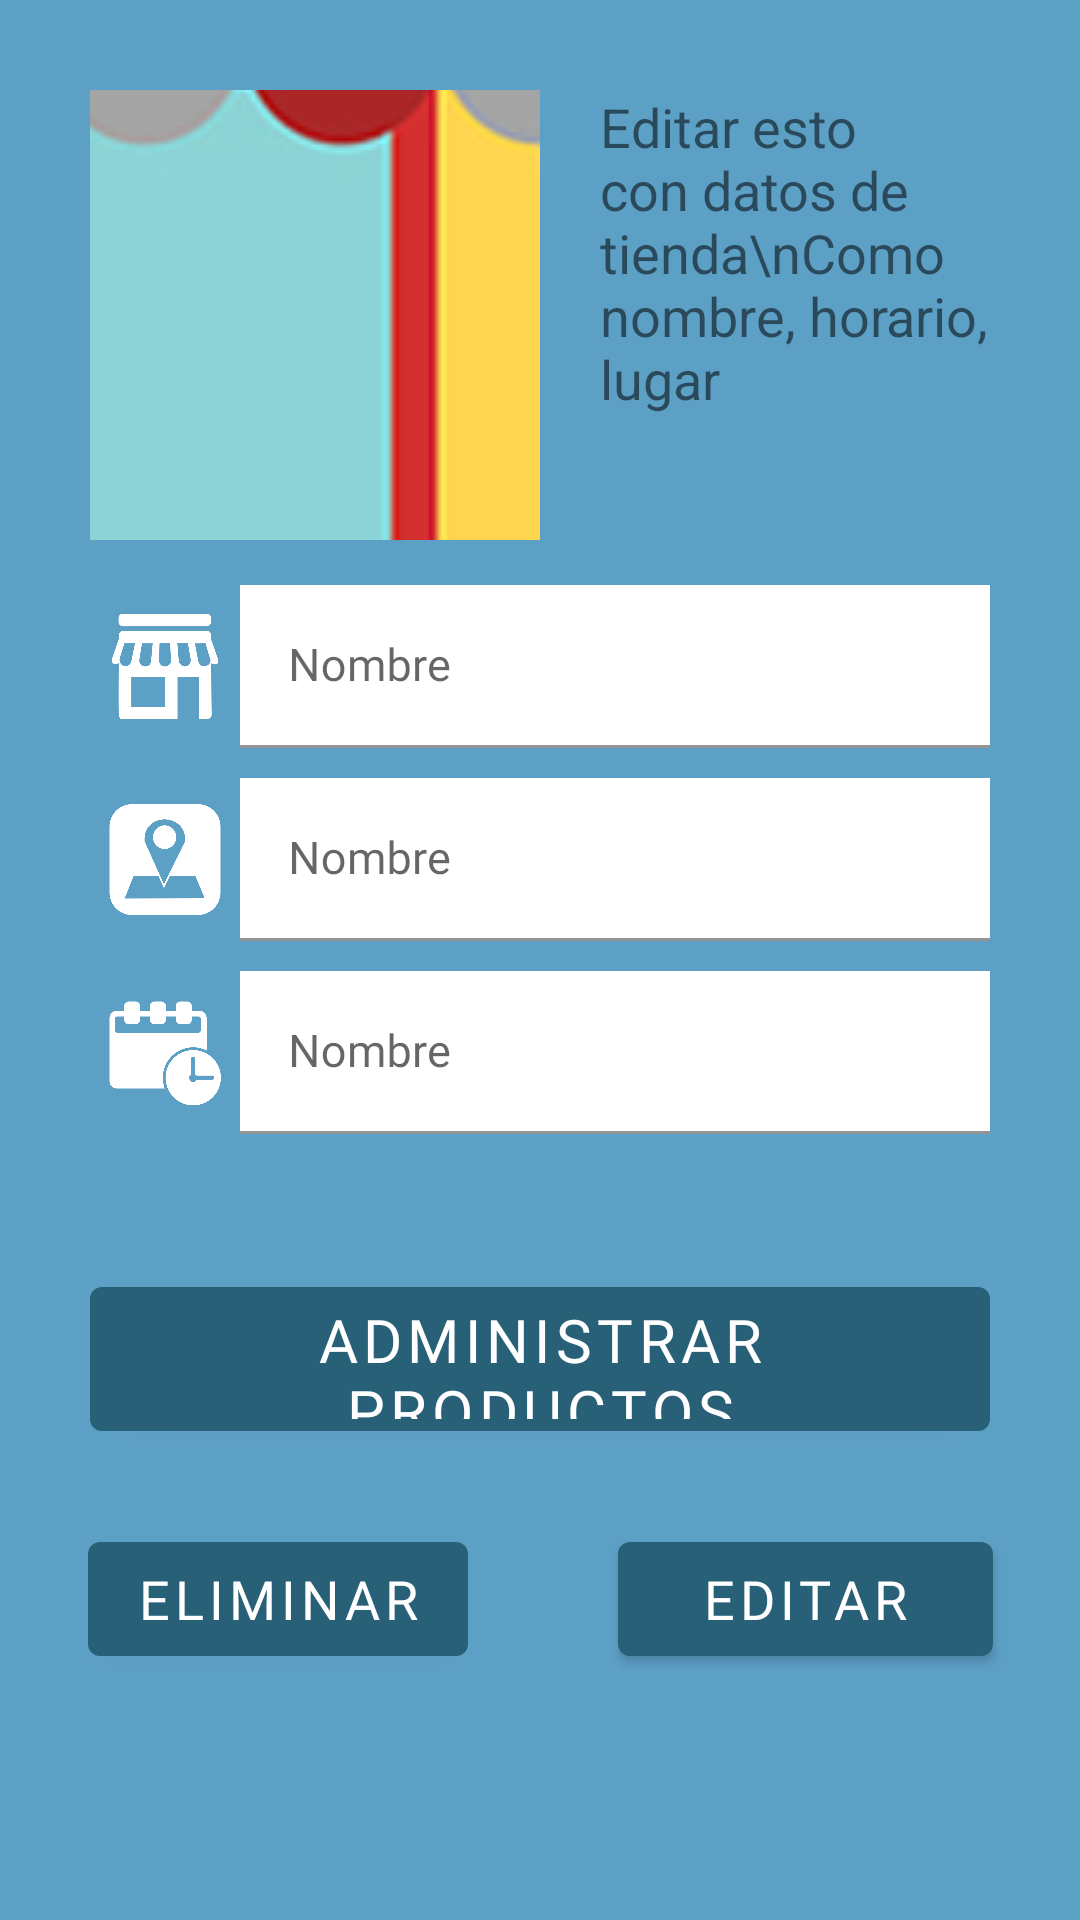

Screen size 1080 × 1920. Icon name, then its center in pixels as [x,y]:
business: [165,666]
calendar: [165,1053]
location: [165,859]
